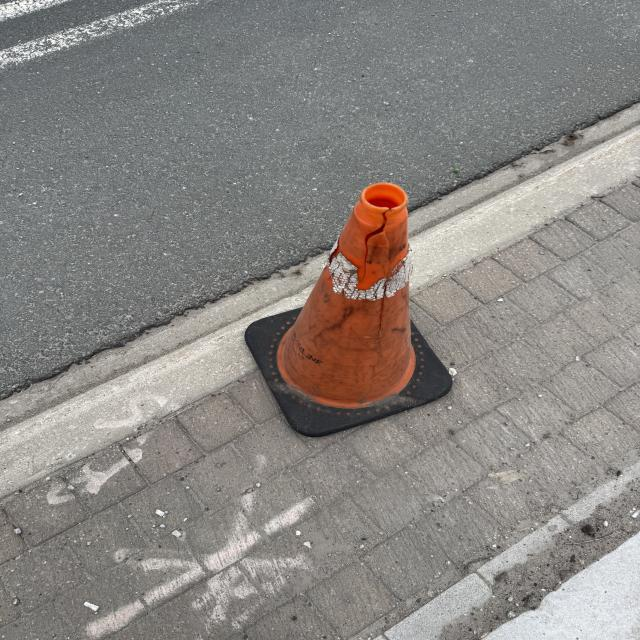Traffic Cone: (245, 181, 457, 436)
